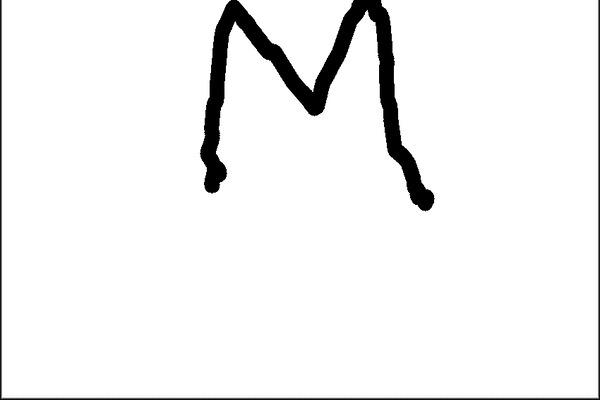M: (189, 1, 432, 209)
